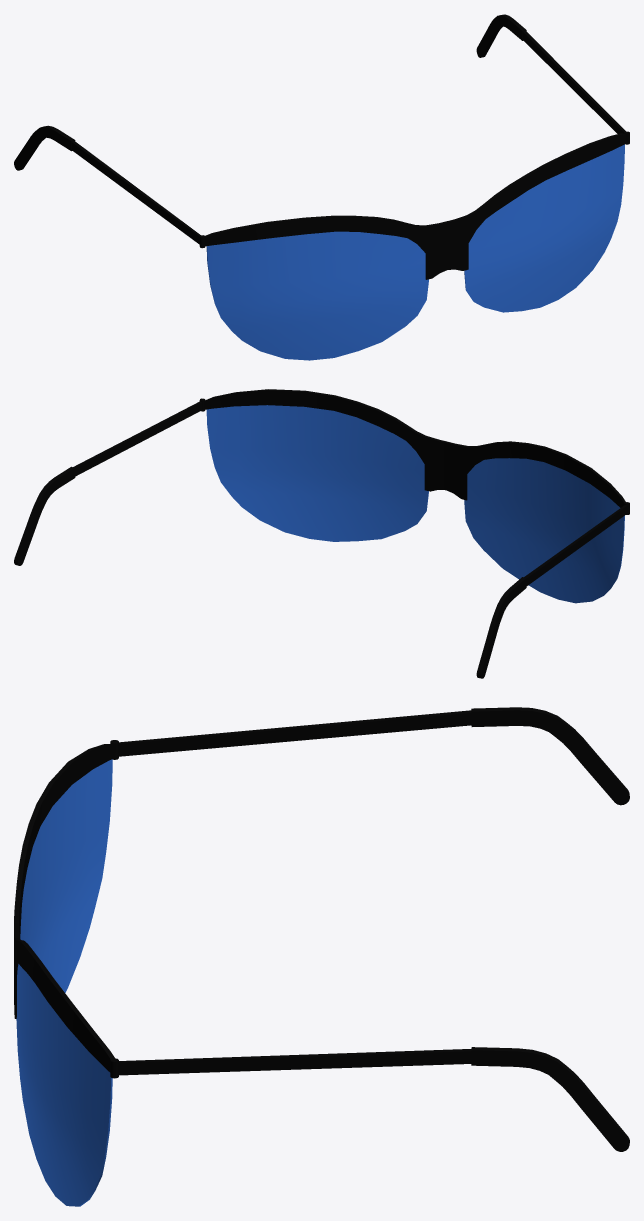
The model's file is glasses-6.glb.
3 renders of one model, top to bottom at view 1: azimuth 30°, elevation 25°; view 2: azimuth 150°, elevation 25°; view 3: azimuth 270°, elevation 25°, orthographic. The views are drawn at different scales.
Parts seen in each view (by area): view 1: glasses14.001; view 2: glasses14.001; view 3: glasses14.001.
Boxes of the visible parts, bbox=[...] form: glasses14.001: bbox=[14, 14, 629, 360]; glasses14.001: bbox=[14, 389, 629, 678]; glasses14.001: bbox=[14, 707, 629, 1206].
Size of the model in its own units: 2.11 by 0.6297 by 1.57.
